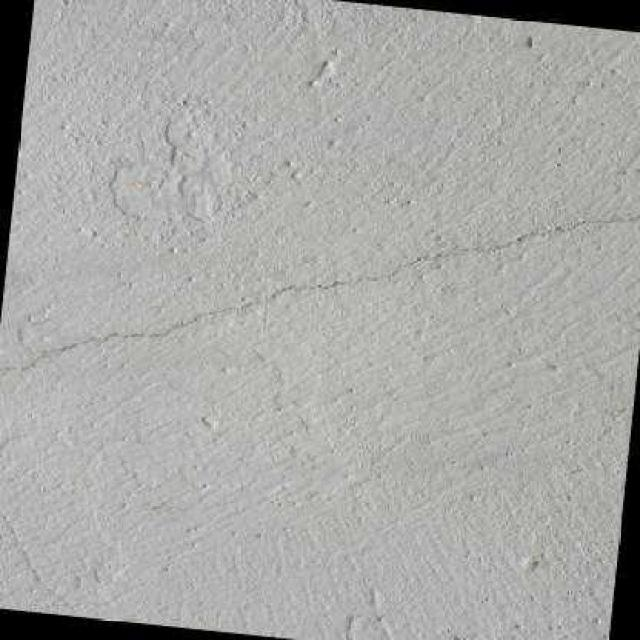D00: (0, 210, 640, 380)
